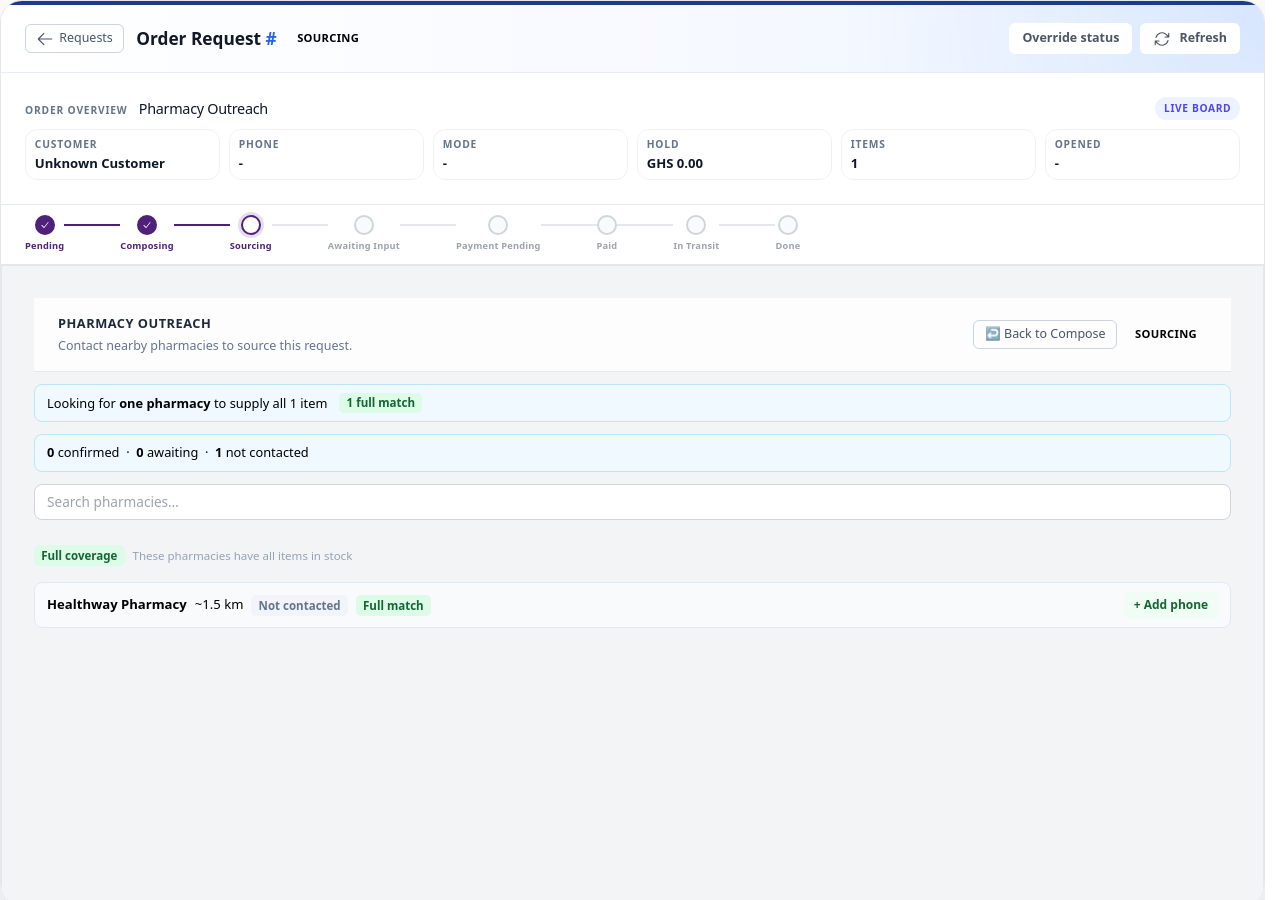
Test: outreach board: a pharmacy with no phone number › saves the number entered, then shows the contact buttons
Click the button "+ Add phone".
click(1171, 605)  # box [1124,592,1218,618]
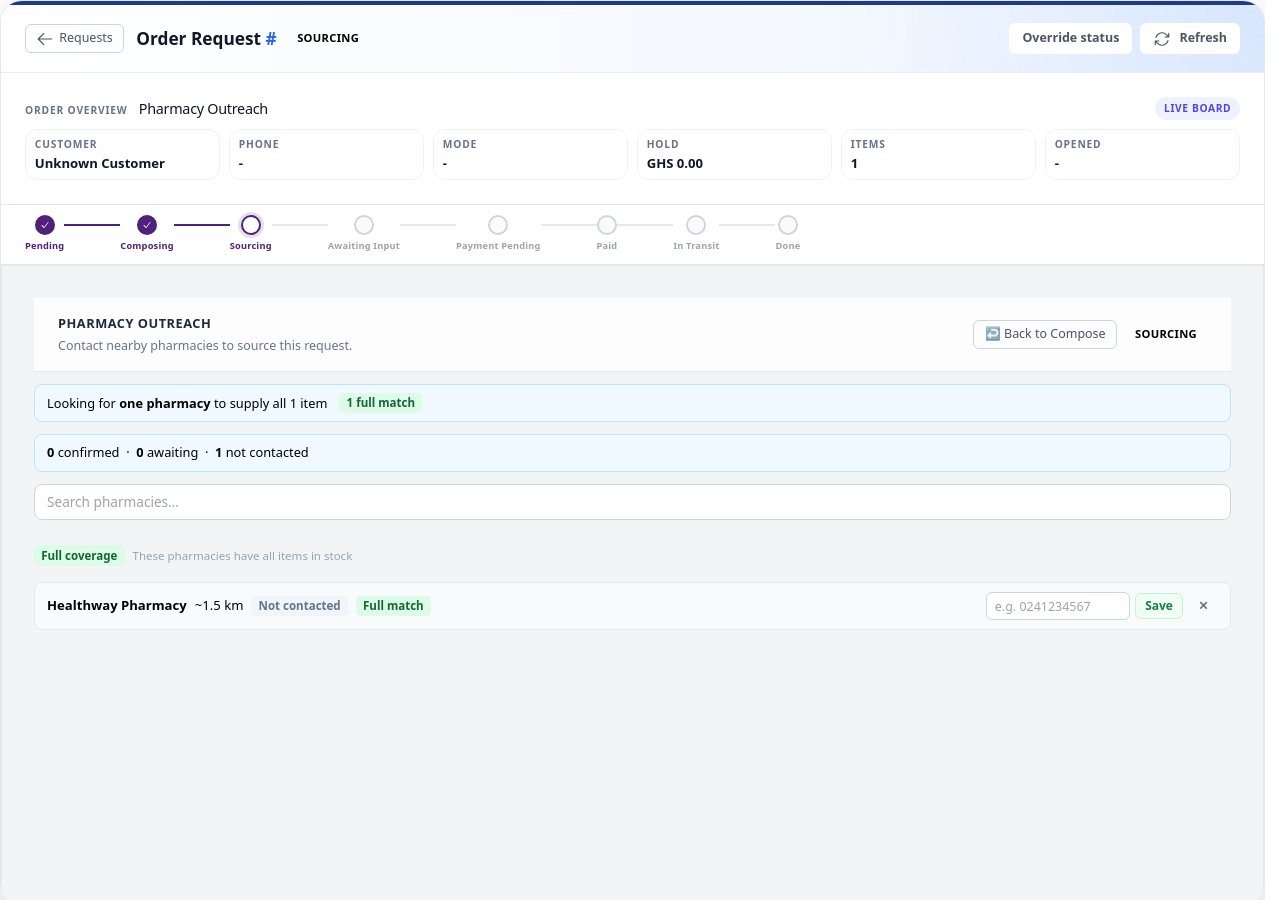
Type "0207654321" into the field with class "outreach-phone-input".
click(1058, 606); type("0207654321")  # box [986,592,1130,620]
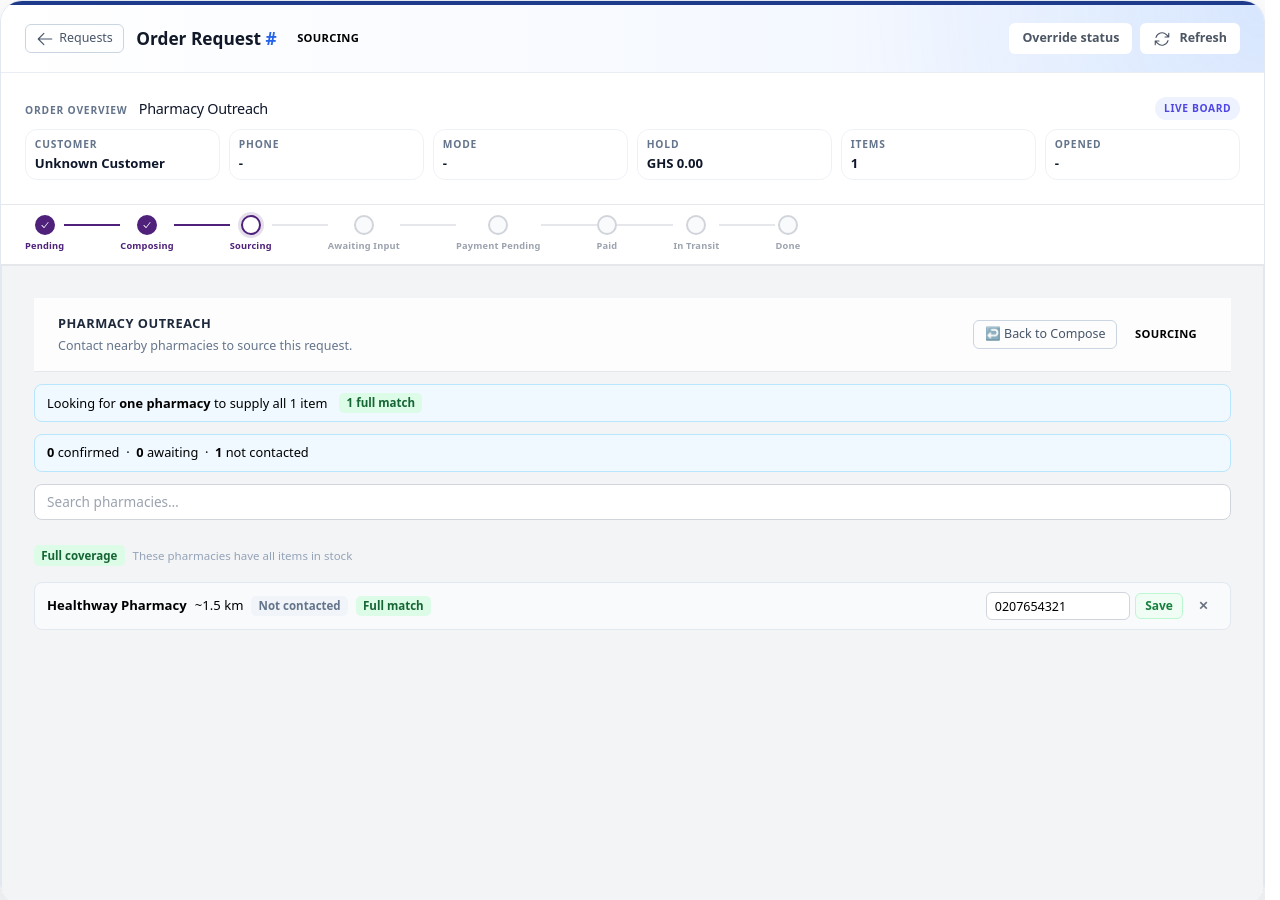
Click the button "Save".
click(1159, 606)  # box [1135,593,1183,619]
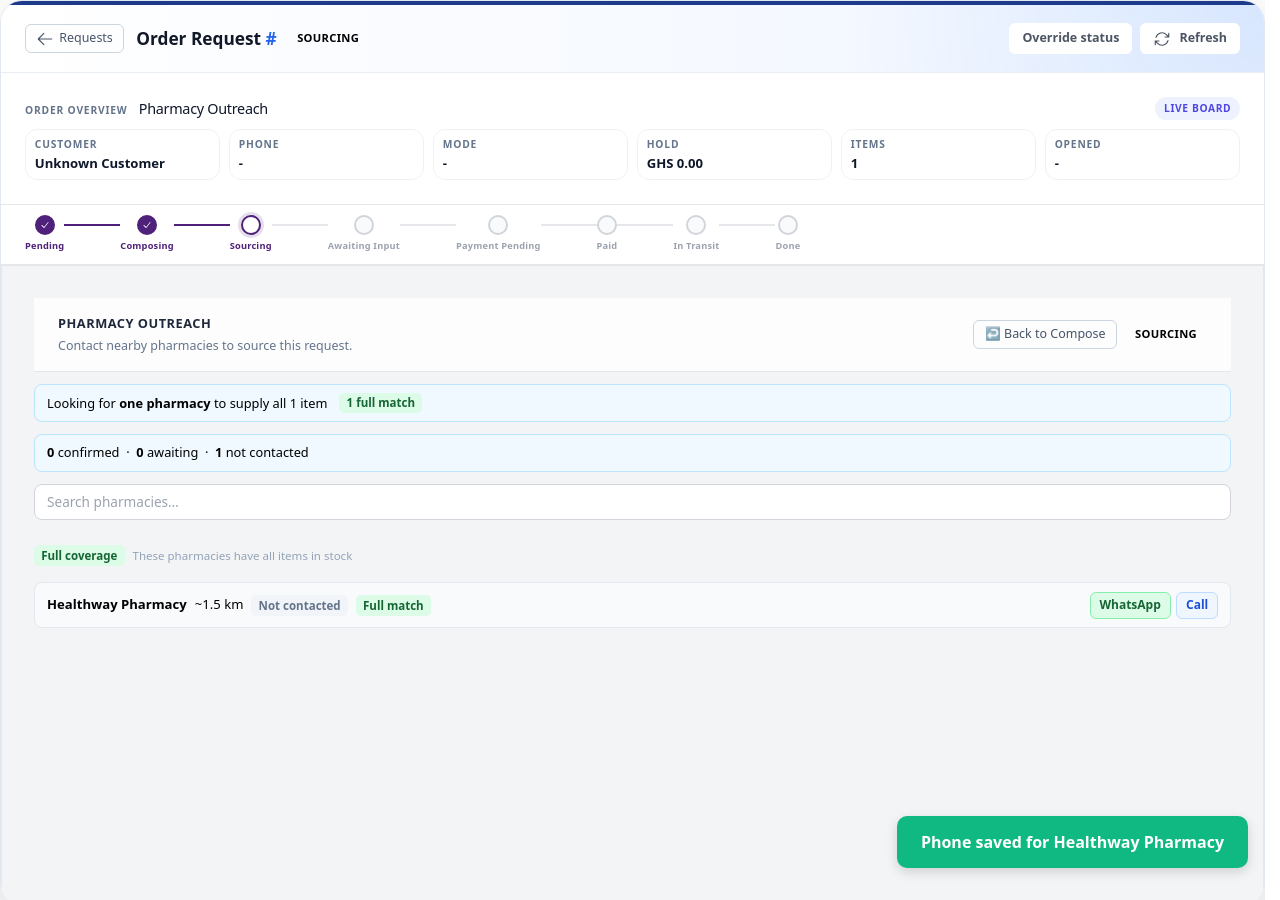
Result: the text "Phone saved for Healthway Pharmacy" is shown at [897,816,1248,868]
